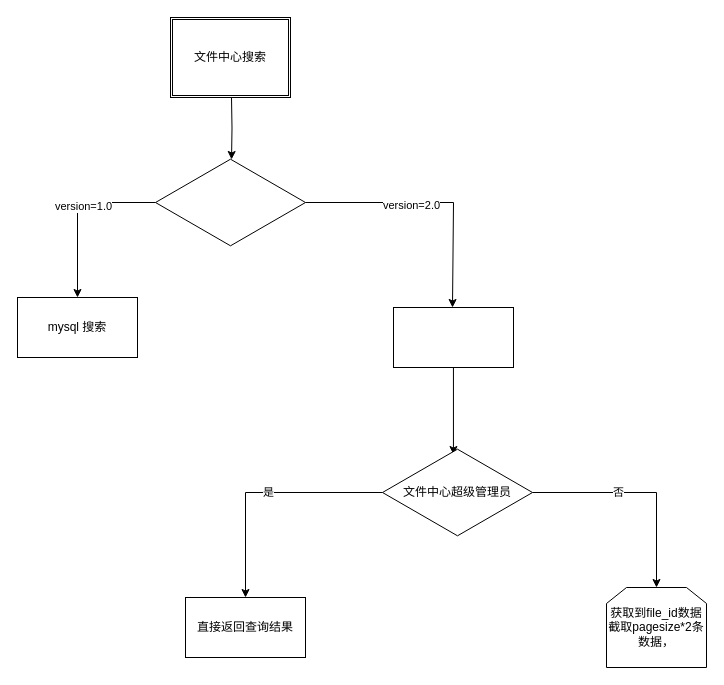
Image size: 724x685. Some labels were removed from this diagram. The centre of each missing label's shape, as x and y in pixels:
"ES 搜索" belongs at pixel 453 337.
"version" belongs at pixel 230 202.
